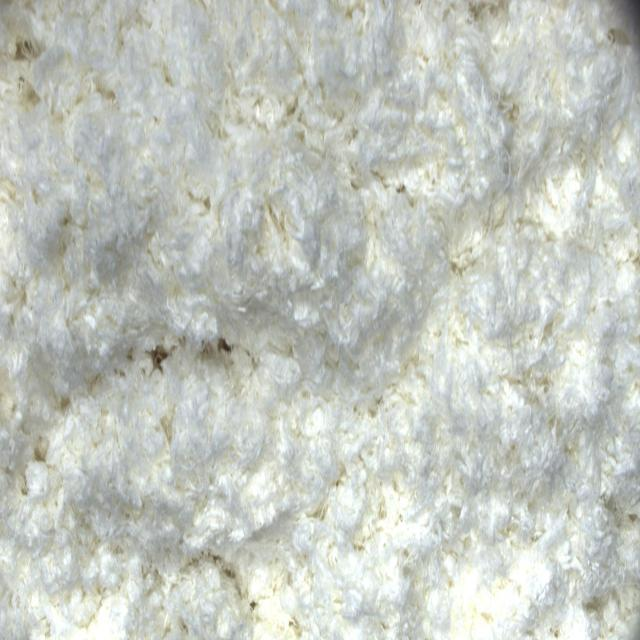dust: (144, 332, 177, 380), (214, 320, 235, 374)
